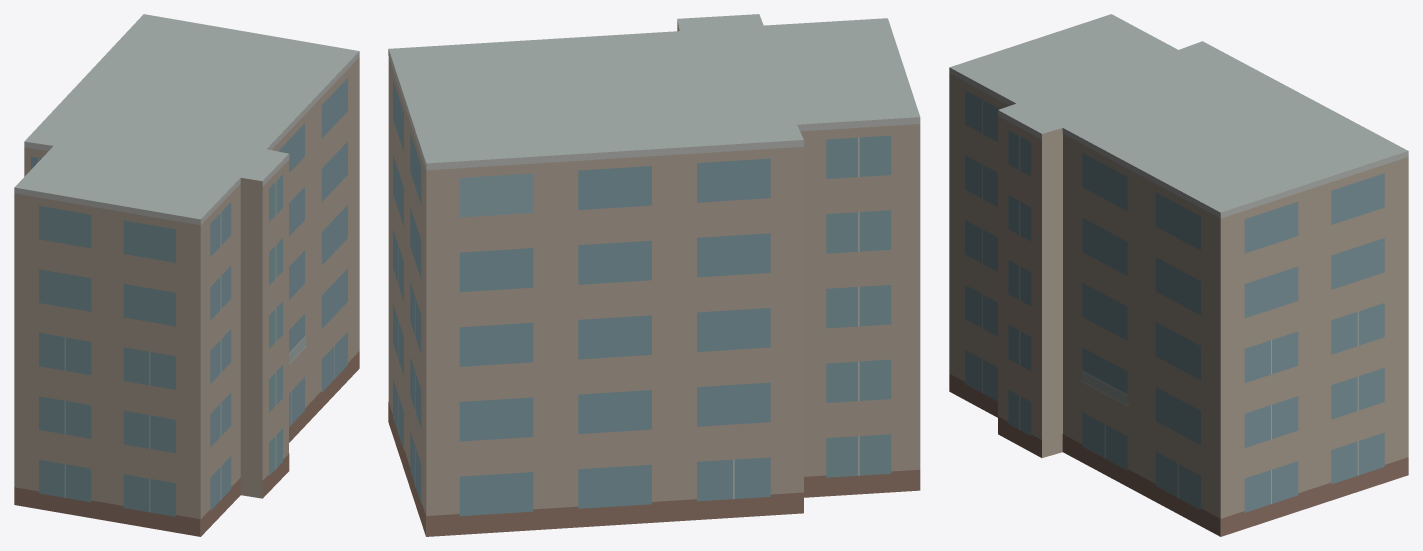
The model's file is survey-upis-32592961.glb.
3 renders of one model, left to right at view 1: azimuth 30°, elevation 25°; view 2: azimuth 150°, elevation 25°; view 3: azimuth 270°, elevation 25°, orthographic. The views are drawn at different scales.
Parts seen in each view (by area): view 1: survey-upis-32592961.tmp; view 2: survey-upis-32592961.tmp; view 3: survey-upis-32592961.tmp.
Part boxes in pixels (<box>): survey-upis-32592961.tmp: <box>14,14,359,536</box>; survey-upis-32592961.tmp: <box>388,14,920,536</box>; survey-upis-32592961.tmp: <box>949,14,1408,536</box>.
Bounding box in the file's own units: 17.49 × 13.3 × 17.08.
